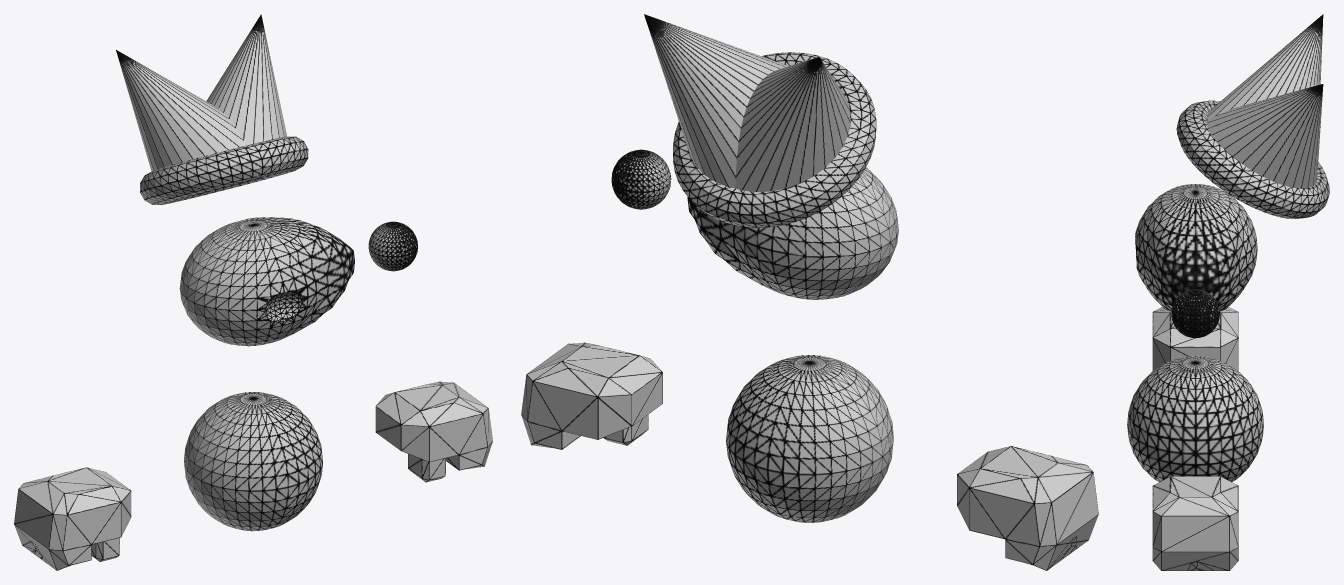
The model's file is AL3_player.obj.
The picture shows the model from 3 angles, left to right: view 1: azimuth 30°, elevation 25°; view 2: azimuth 150°, elevation 25°; view 3: azimuth 270°, elevation 25°; orthographic projection. The views are drawn at different scales.
Parts seen in each view (by area): view 1: 立方体.006, 立方体.002, 立方体.004, 立方体.003, 立方体.010, 立方体.008, 立方体.009, 立方体.011, 立方体.005; view 2: 立方体.002, 立方体.006, 立方体.004, 立方体.010, 立方体.003, 立方体.009, 立方体.008, 立方体.011; view 3: 立方体.002, 立方体.006, 立方体.009, 立方体.003, 立方体.008, 立方体.010, 立方体.004, 立方体.011.
Part boxes in pixels (x1=…): 立方体.006: x1=179, y1=217, x2=354, y2=346; 立方体.002: x1=184, y1=392, x2=322, y2=531; 立方体.004: x1=14, y1=467, x2=131, y2=570; 立方体.003: x1=375, y1=381, x2=492, y2=470; 立方体.010: x1=116, y1=50, x2=245, y2=171; 立方体.008: x1=140, y1=136, x2=308, y2=204; 立方体.009: x1=206, y1=14, x2=286, y2=145; 立方体.011: x1=368, y1=221, x2=417, y2=271; 立方体.005: x1=408, y1=454, x2=445, y2=482; 立方体.002: x1=726, y1=355, x2=893, y2=522; 立方体.006: x1=687, y1=167, x2=898, y2=299; 立方体.004: x1=957, y1=446, x2=1098, y2=570; 立方体.010: x1=735, y1=57, x2=850, y2=191; 立方体.003: x1=521, y1=342, x2=662, y2=449; 立方体.009: x1=644, y1=14, x2=788, y2=188; 立方体.008: x1=673, y1=52, x2=876, y2=227; 立方体.011: x1=611, y1=149, x2=671, y2=209; 立方体.002: x1=1127, y1=356, x2=1263, y2=481; 立方体.006: x1=1135, y1=184, x2=1257, y2=311; 立方体.009: x1=1207, y1=84, x2=1323, y2=188; 立方体.003: x1=1152, y1=476, x2=1238, y2=570; 立方体.008: x1=1176, y1=100, x2=1329, y2=218; 立方体.010: x1=1207, y1=14, x2=1323, y2=119; 立方体.004: x1=1152, y1=307, x2=1238, y2=370; 立方体.011: x1=1171, y1=289, x2=1219, y2=338.
Size of the model in its own units: 7.36 by 7.05 by 2.96.
1 material, 1 textured.
